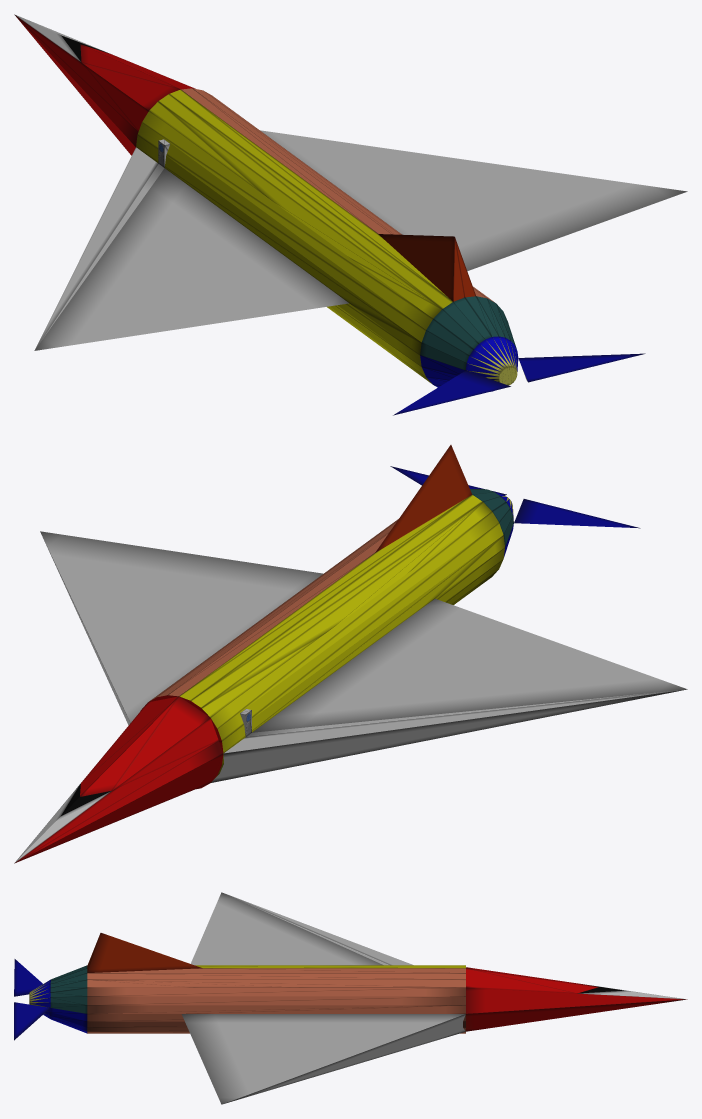
The picture shows the model from 3 angles, top to bottom: view 1: azimuth 30°, elevation 25°; view 2: azimuth 150°, elevation 25°; view 3: azimuth 270°, elevation 25°; orthographic projection. The views are drawn at different scales.
Parts seen in each view (by area): view 1: world; view 2: world; view 3: world.
Boxes of the visible parts, x1,y1,x2,y2 form: world: [14, 14, 687, 415]; world: [14, 445, 687, 863]; world: [14, 892, 687, 1104].
Bounding box in the file's own units: 1.43 × 0.3072 × 1.91.
1 material, 1 textured.
